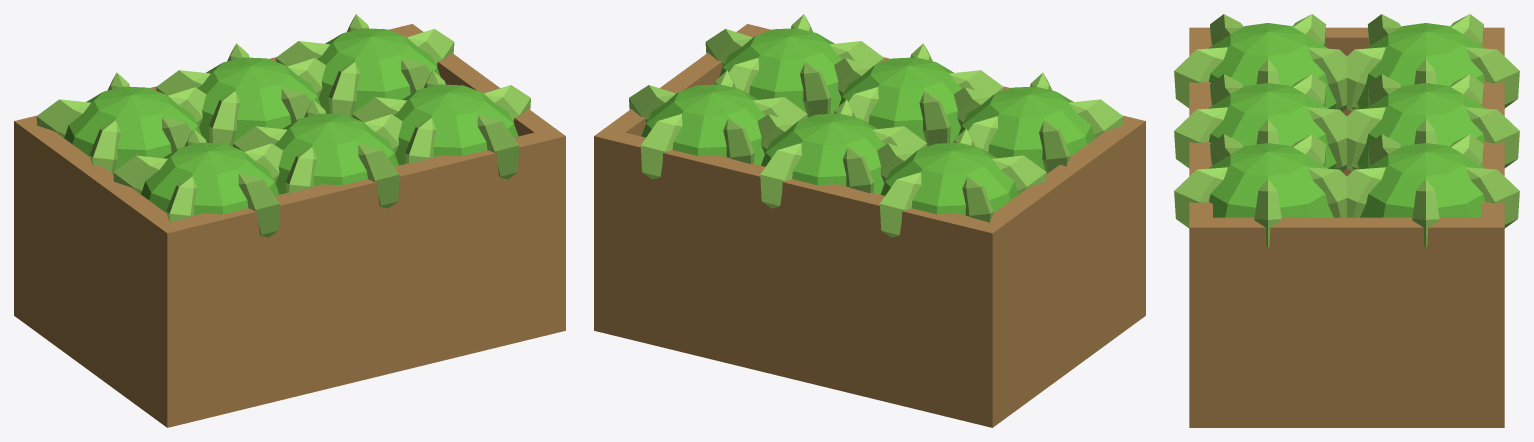
Rendered from kitchen_crate_lettuce.glb.
3 views of the same model, side by side, from view 1: azimuth 30°, elevation 25°; view 2: azimuth 150°, elevation 25°; view 3: azimuth 270°, elevation 25° (orthographic). The views are drawn at different scales.
Visible parts, largest first — view 1: crate_crate_wood, lettuce_food_lettuce, lettuce_food_lettuce_light (×24); view 2: crate_crate_wood, lettuce_food_lettuce, lettuce_food_lettuce_light (×24); view 3: crate_crate_wood, lettuce_food_lettuce, lettuce_food_lettuce_light (×30).
Part boxes in pixels (<box>): crate_crate_wood: <box>14,24,565,427</box>; lettuce_food_lettuce: <box>64,28,518,215</box>; lettuce_food_lettuce_light (×24): <box>36,29,530,237</box>; crate_crate_wood: <box>594,24,1145,427</box>; lettuce_food_lettuce: <box>641,28,1095,215</box>; lettuce_food_lettuce_light (×24): <box>629,29,1123,237</box>; crate_crate_wood: <box>1189,27,1504,427</box>; lettuce_food_lettuce: <box>1208,23,1485,217</box>; lettuce_food_lettuce_light (×30): <box>1174,14,1519,247</box>.
Bounding box in the file's own units: 0.6053 × 0.33 × 0.4383.
